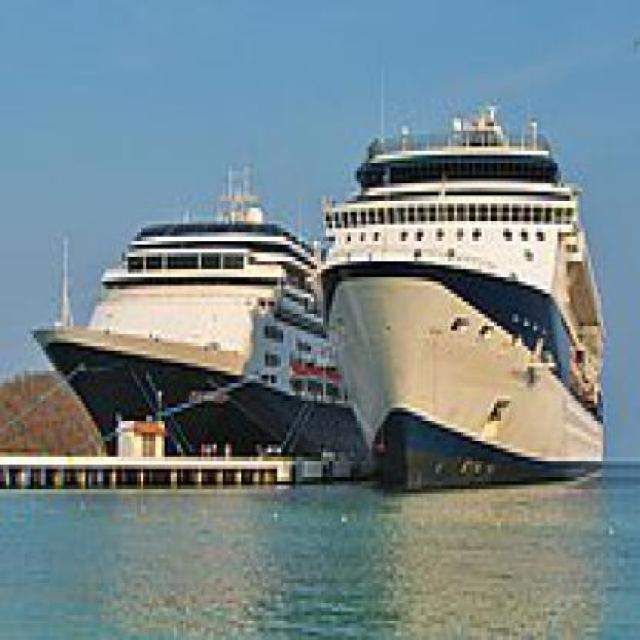cruise: (315, 99, 622, 503), (16, 160, 391, 483)
